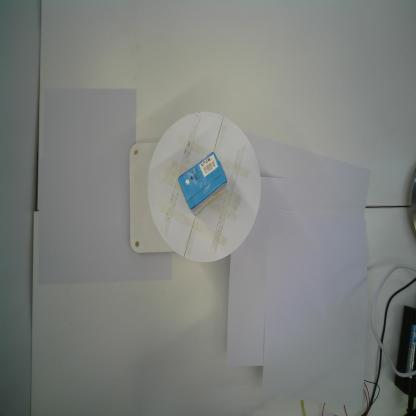Milk: (177, 152, 227, 216)
